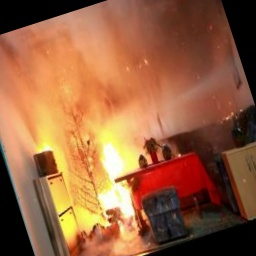fire: (46, 108, 157, 226)
